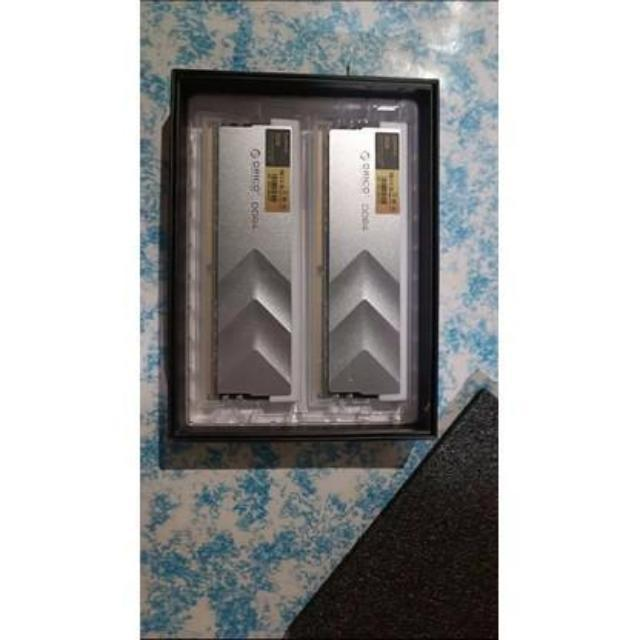RAM: (195, 105, 307, 408), (306, 117, 408, 406)
